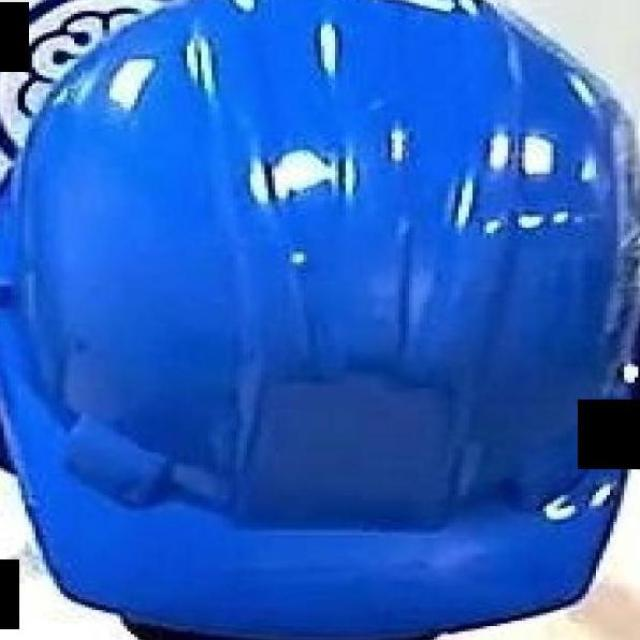blue helmet: (24, 6, 639, 617)
